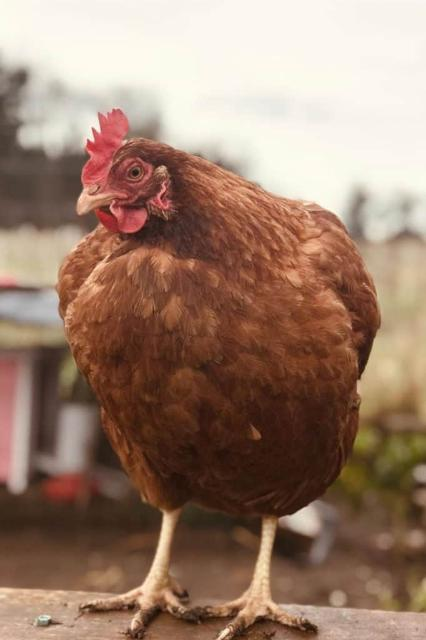Chicken: (56, 105, 384, 640)
